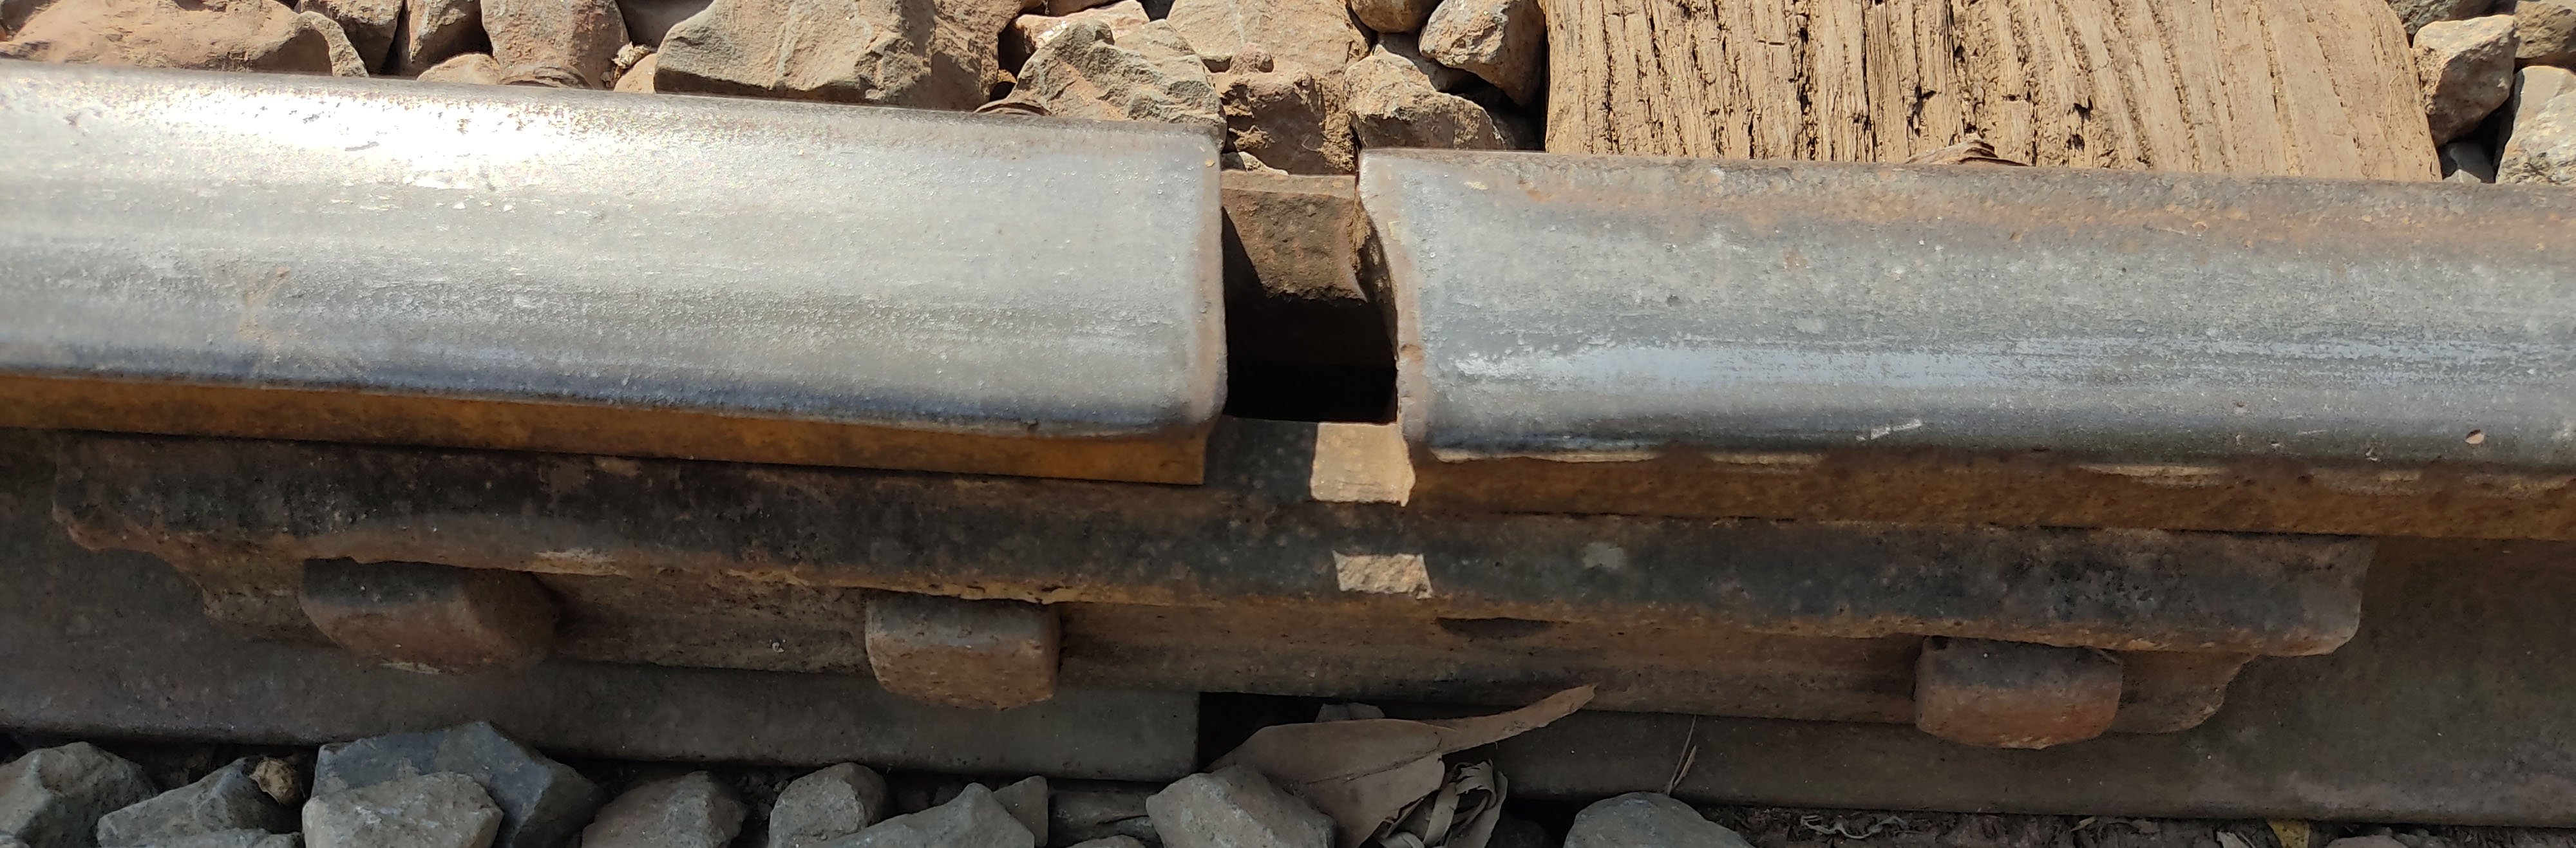error2: (1165, 64, 1460, 552)
